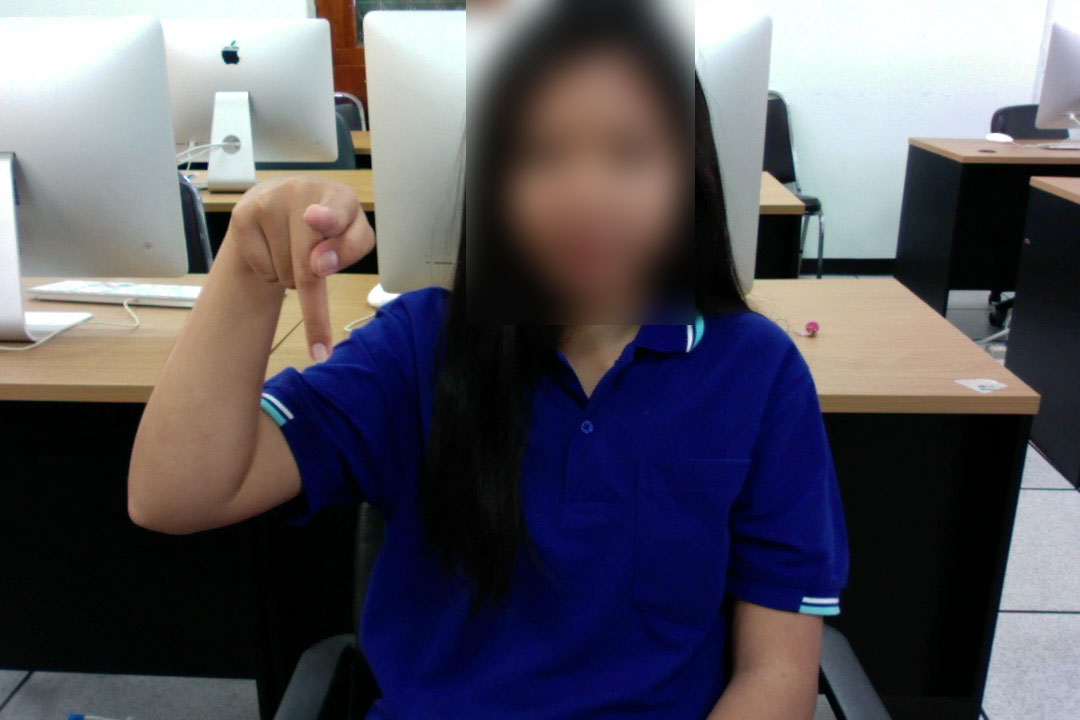por: (221, 164, 380, 369)
